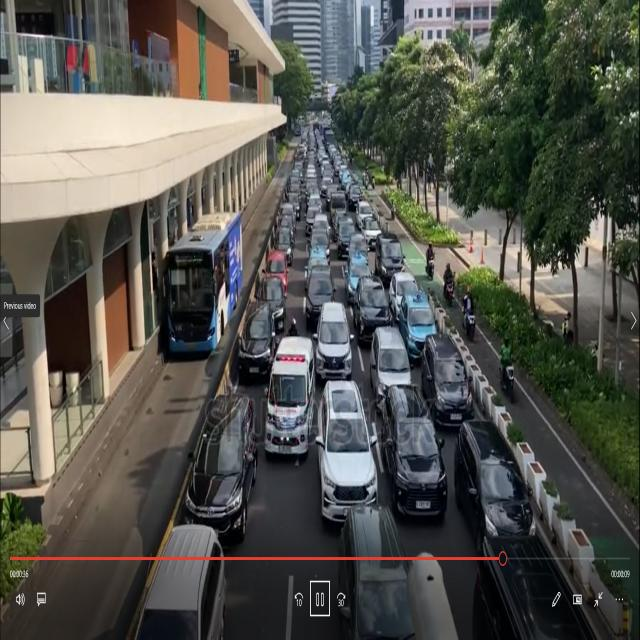Ambulance: (267, 337, 316, 478)
